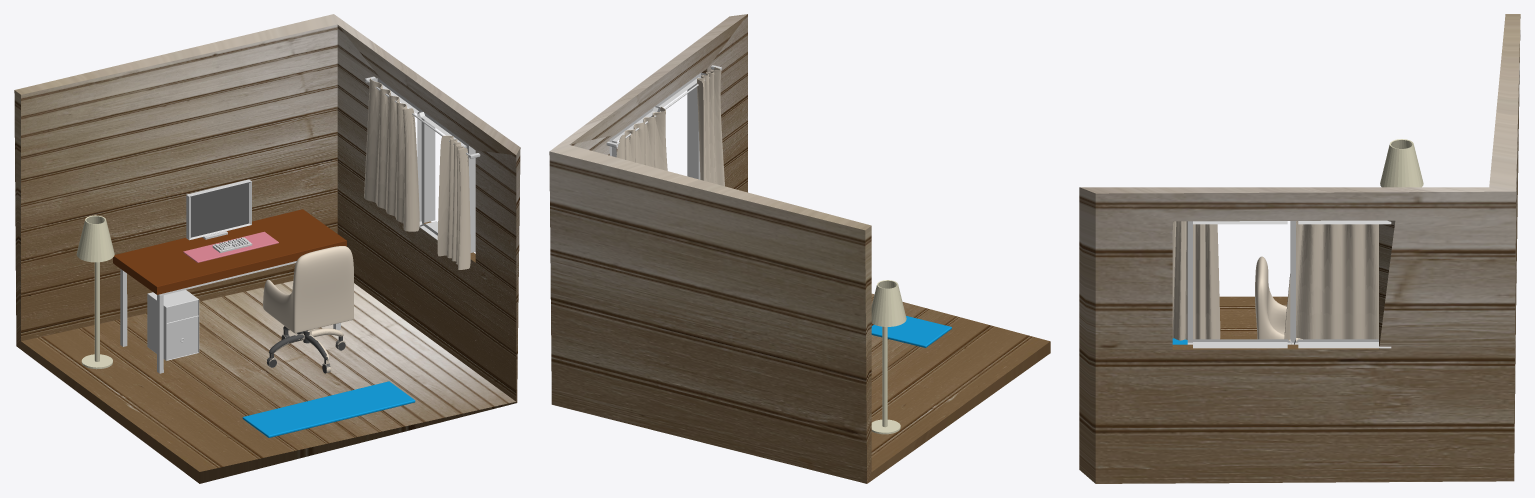
File: home-modeling.glb
The picture shows the model from 3 angles, left to right: view 1: azimuth 30°, elevation 25°; view 2: azimuth 150°, elevation 25°; view 3: azimuth 270°, elevation 25°; orthographic projection. The views are drawn at different scales.
Parts seen in each view (by area): view 1: wall, curtain, desk, chair, matt, window, mainBody, monitorDisplay, stand, deskMatt, monitor; view 2: wall, curtain, stand, window, matt; view 3: wall, curtain, window, chair, stand.
Boxes of the visible parts, bbox=[...] form: wall: bbox=[14, 14, 520, 483]; curtain: bbox=[364, 78, 470, 269]; desk: bbox=[113, 209, 346, 373]; chair: bbox=[263, 246, 353, 373]; matt: bbox=[242, 381, 415, 437]; window: bbox=[373, 78, 475, 252]; mainBody: bbox=[147, 290, 199, 360]; monitorDisplay: bbox=[191, 183, 248, 237]; stand: bbox=[76, 215, 114, 369]; deskMatt: bbox=[183, 231, 278, 262]; monitor: bbox=[186, 179, 251, 240]; wall: bbox=[549, 14, 1050, 483]; curtain: bbox=[616, 67, 724, 186]; stand: bbox=[871, 280, 906, 434]; window: bbox=[609, 72, 705, 179]; matt: bbox=[871, 316, 951, 347]; wall: bbox=[1079, 14, 1520, 483]; curtain: bbox=[1172, 221, 1378, 340]; window: bbox=[1187, 220, 1391, 348]; chair: bbox=[1255, 256, 1302, 344]; stand: bbox=[1380, 139, 1423, 187].
Bounding box in the file's own units: 4.47 × 3.44 × 4.64.
10 materials, 1 textured.
